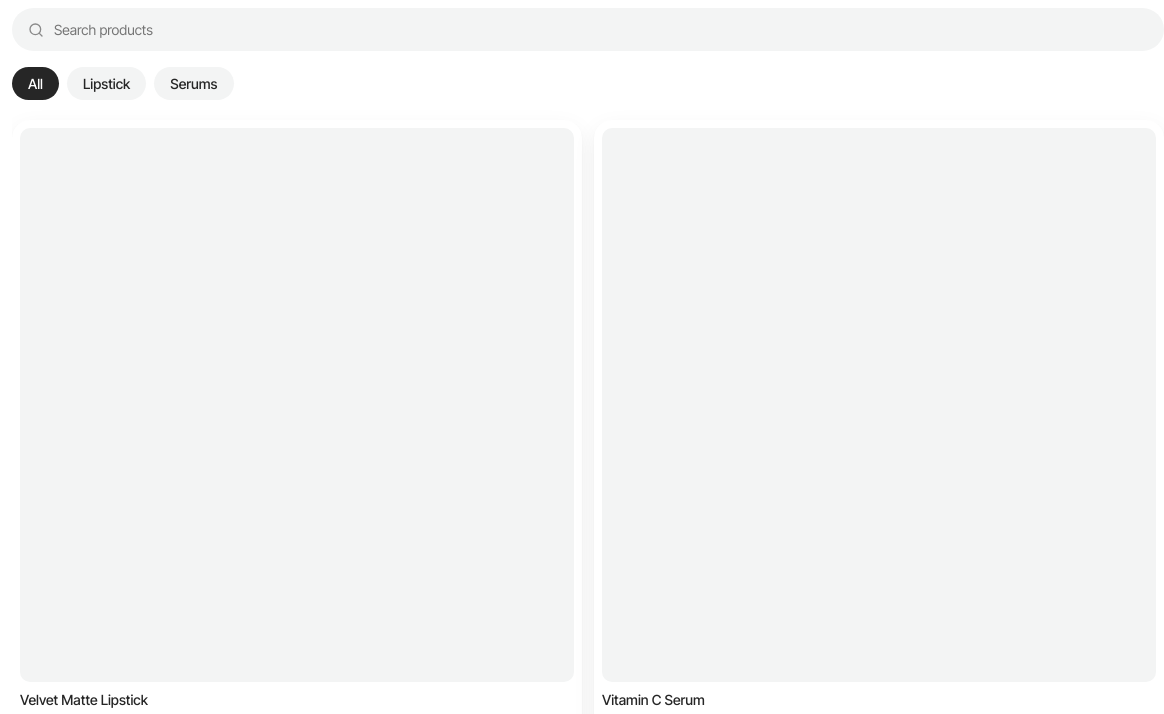
Scenario: CatalogHomeScreen › filters by the search box without another request
Expected: the text "Velvet Matte Lipstick" is shown, [20,691,148,708]
In the search field with placeholder "Search products": (600, 30) [52,20,1148,39], type "vitamin"
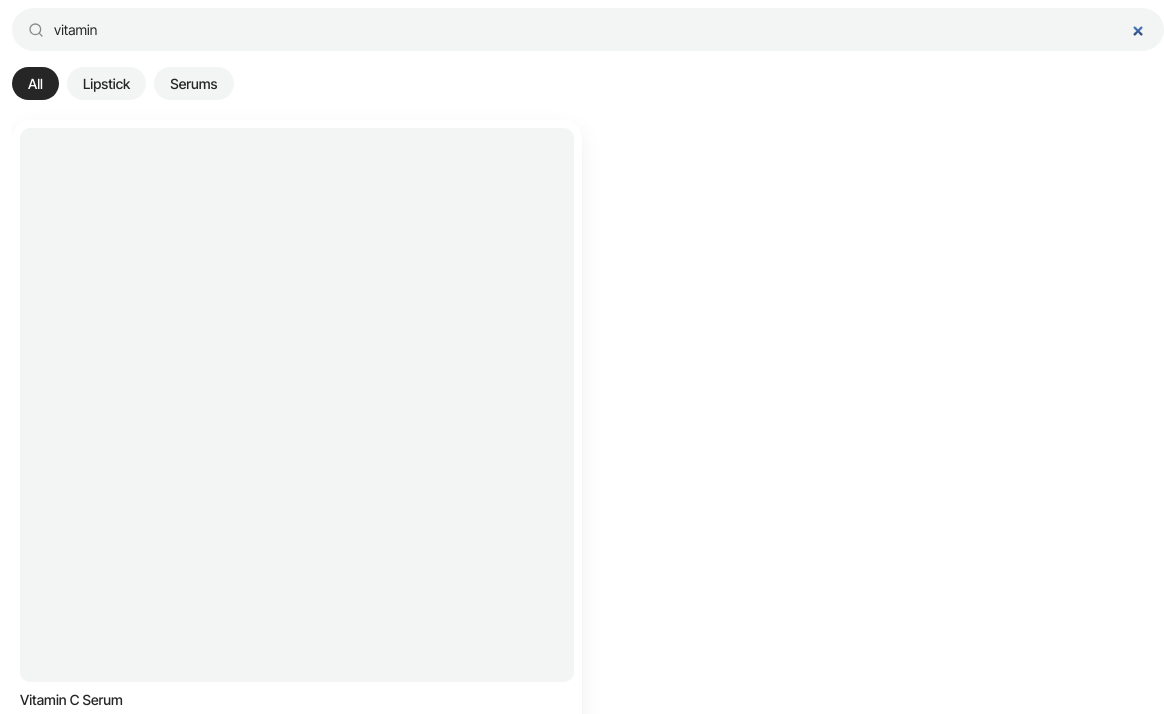
Expected: the text "Vitamin C Serum" is shown, [20,691,123,708]
Expected: the button "Velvet Matte Lipstick" is gone
